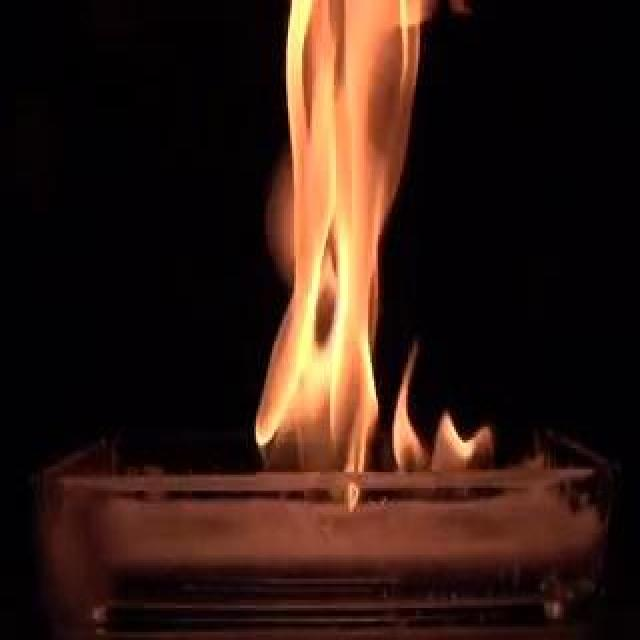Fire: (82, 170, 353, 412)
